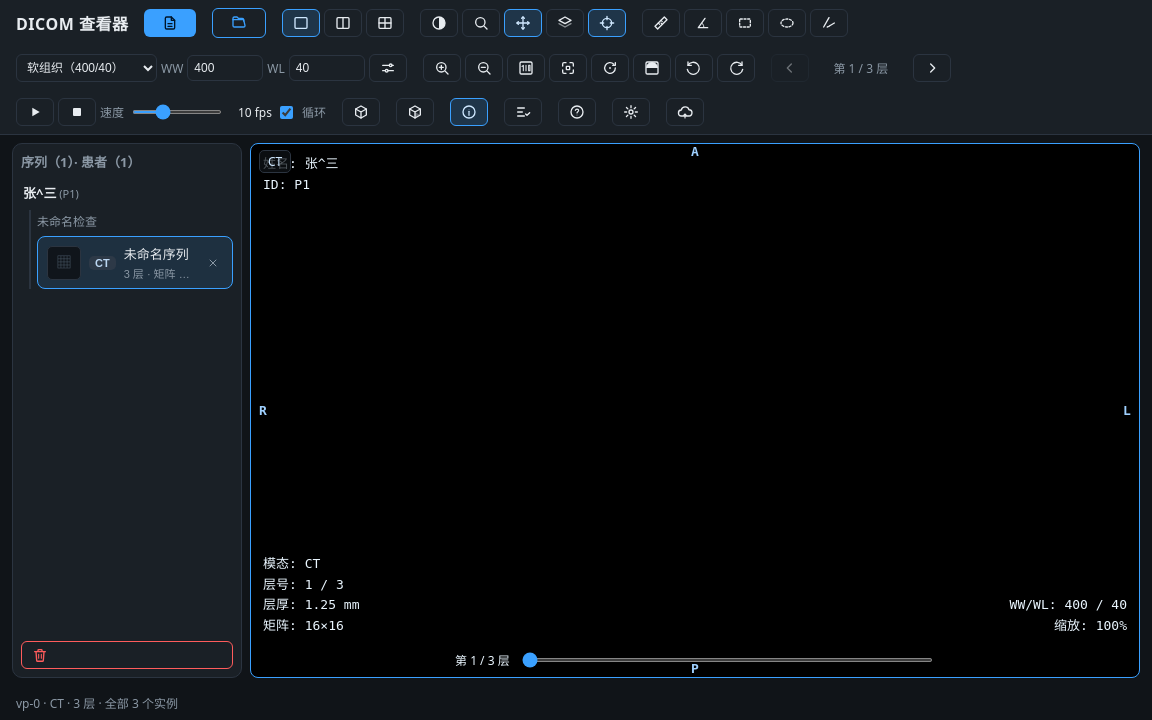
App × MPR 参考线随动（FR-6.10） › 清除/关闭参考线所属序列后叠加层消失
Click the button named "MPR 多平面重建（单轴向 ⇄ 三平面）".
click(361, 112)  # box x1=342 y1=98 x2=380 y2=126
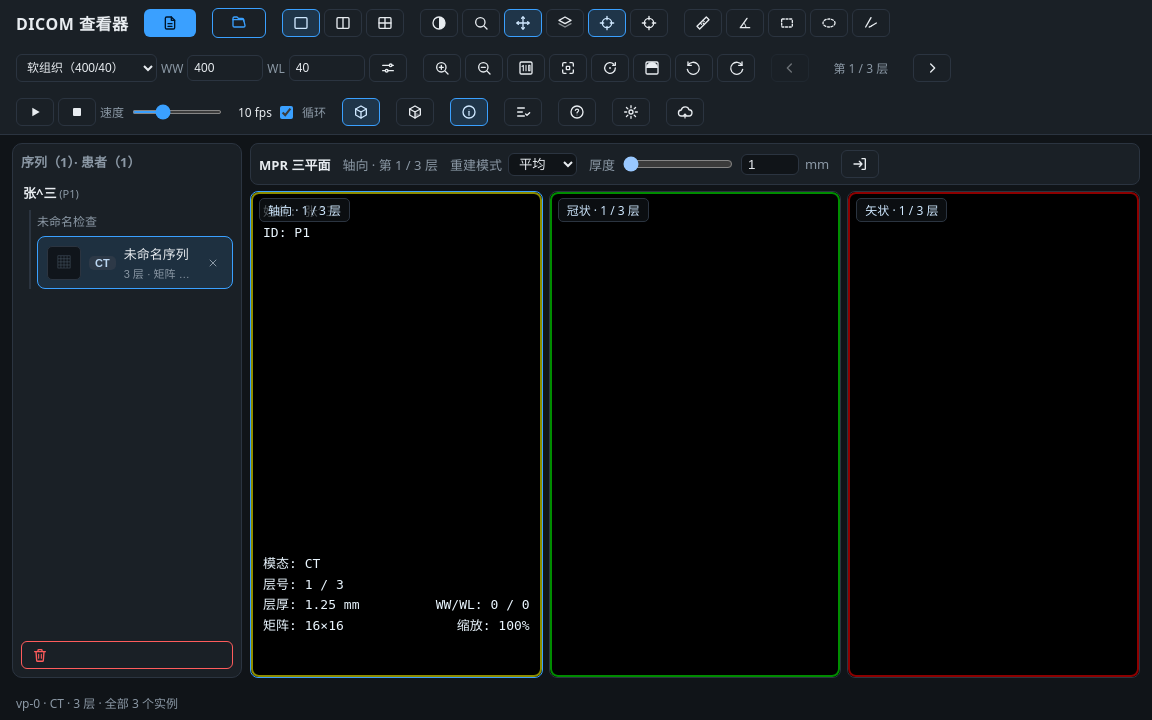
Click the button named "退出 MPR，返回 2D 布局".
click(860, 164)  # box x1=841 y1=150 x2=879 y2=178
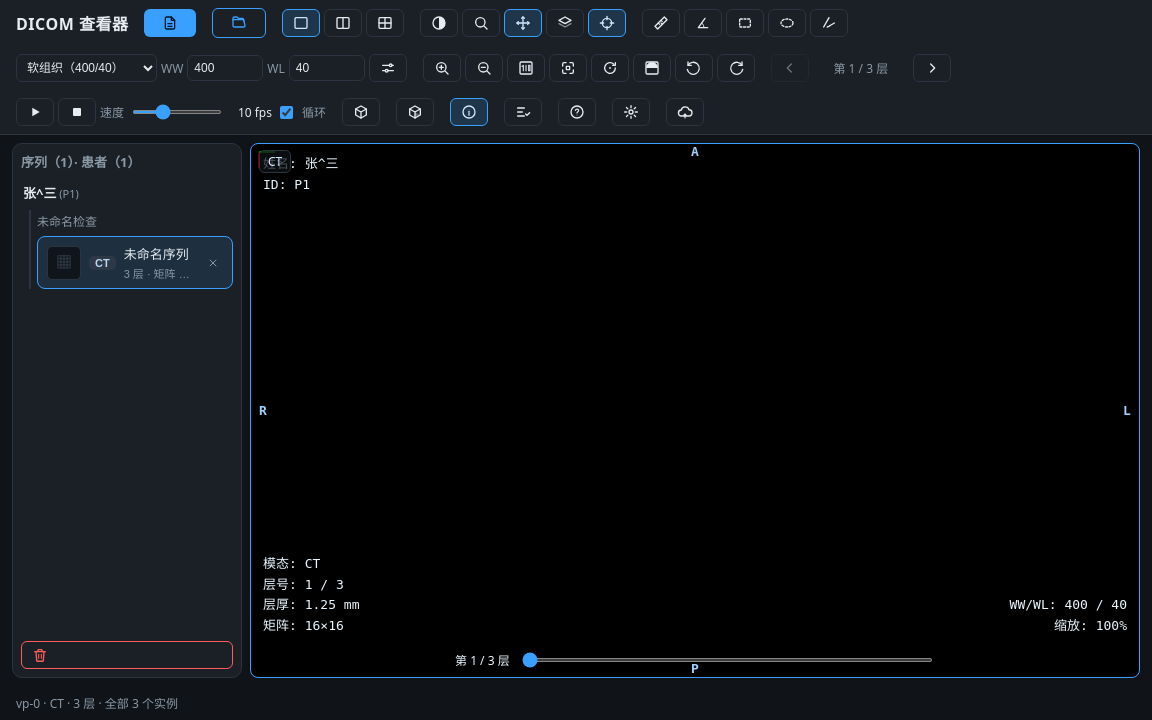
Click the button named "清空全部已加载数据".
click(127, 655)  # box x1=21 y1=641 x2=233 y2=669
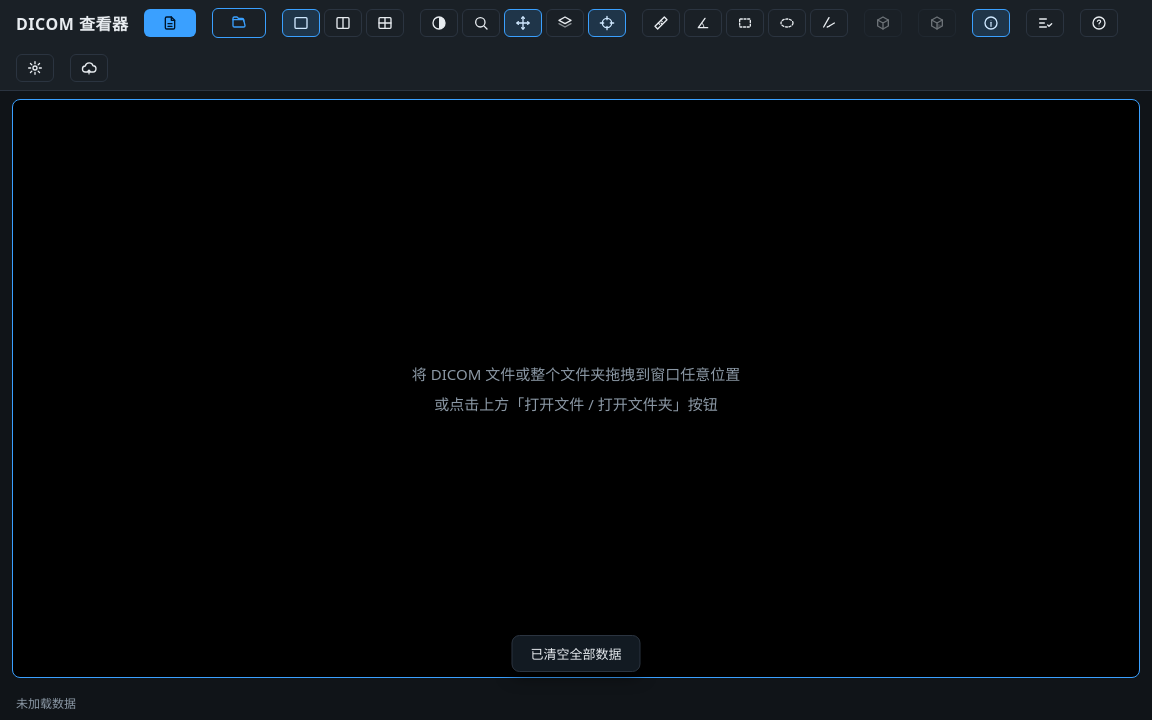
Check: the element with class "reference-lines-overlay" is gone
